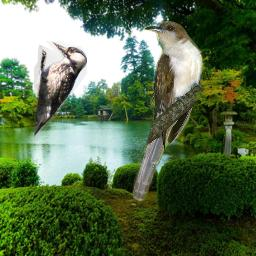Cuckoo: (132, 21, 204, 201)
Woodpecker: (34, 41, 87, 141)
